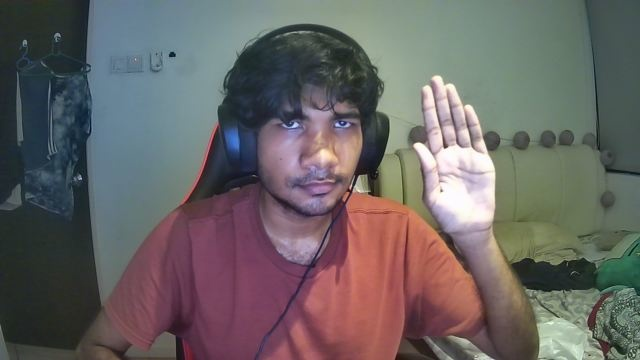Hello: (411, 67, 499, 234)
